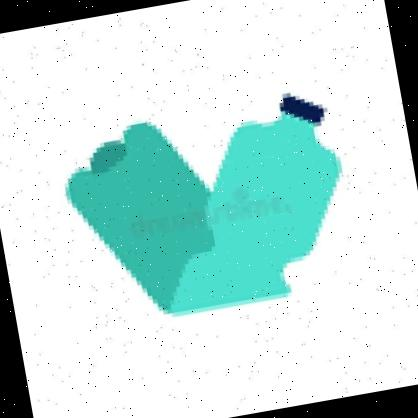bottle: (36, 67, 374, 353)
cap: (277, 84, 330, 134)
